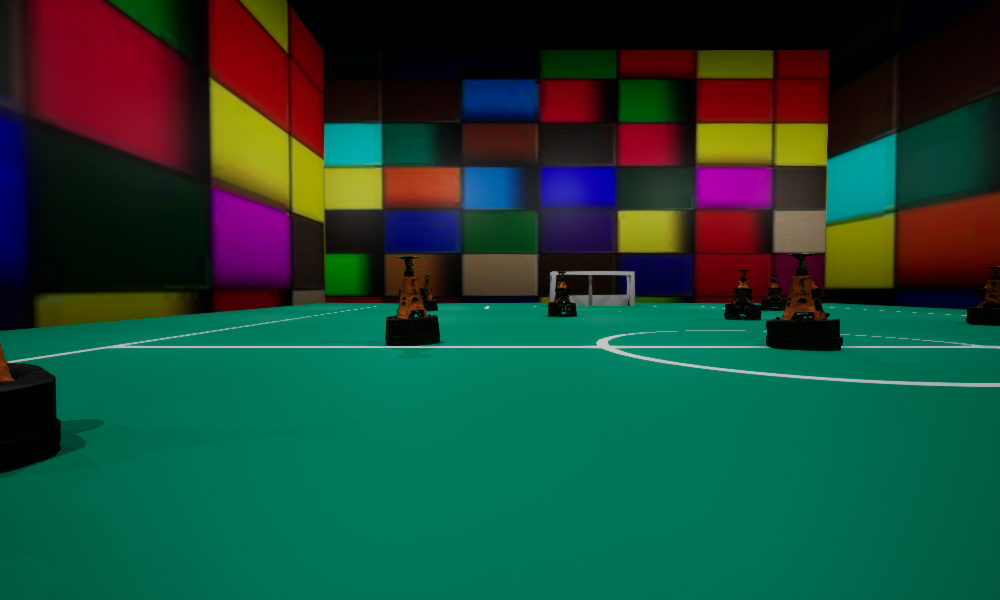o: (0, 344, 60, 472), (766, 253, 842, 350), (385, 256, 439, 345), (966, 266, 999, 325), (724, 270, 760, 319), (548, 271, 576, 316), (761, 275, 786, 310), (420, 274, 437, 310)
